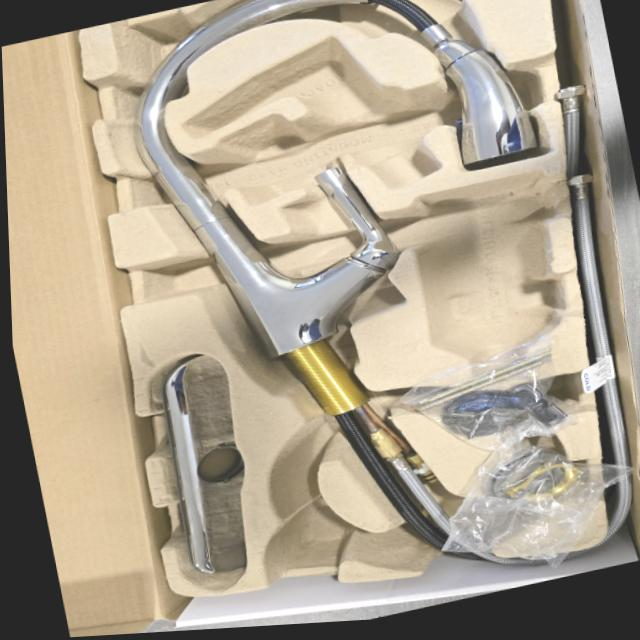1: (135, 0, 536, 559)
2m: (184, 37, 445, 187)
3m: (413, 169, 564, 378)
4: (162, 354, 243, 574)
5m: (272, 501, 349, 563)
6: (440, 442, 640, 568)
7: (396, 334, 584, 453)
